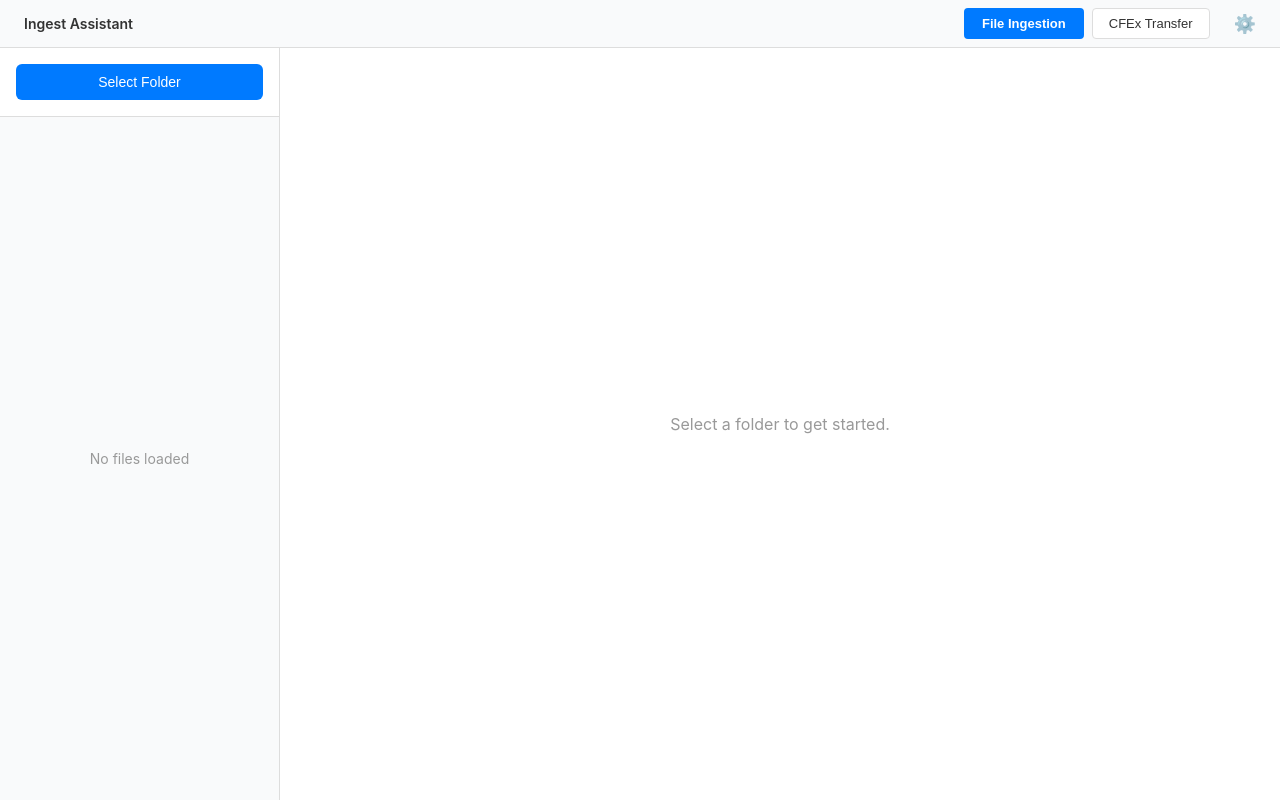
Scenario: Keyboard Shortcuts › Cmd+K - Command palette shortcut › should close command palette when Escape is pressed
Click the button "Select Folder" at (140, 82), box [16,64,263,100]
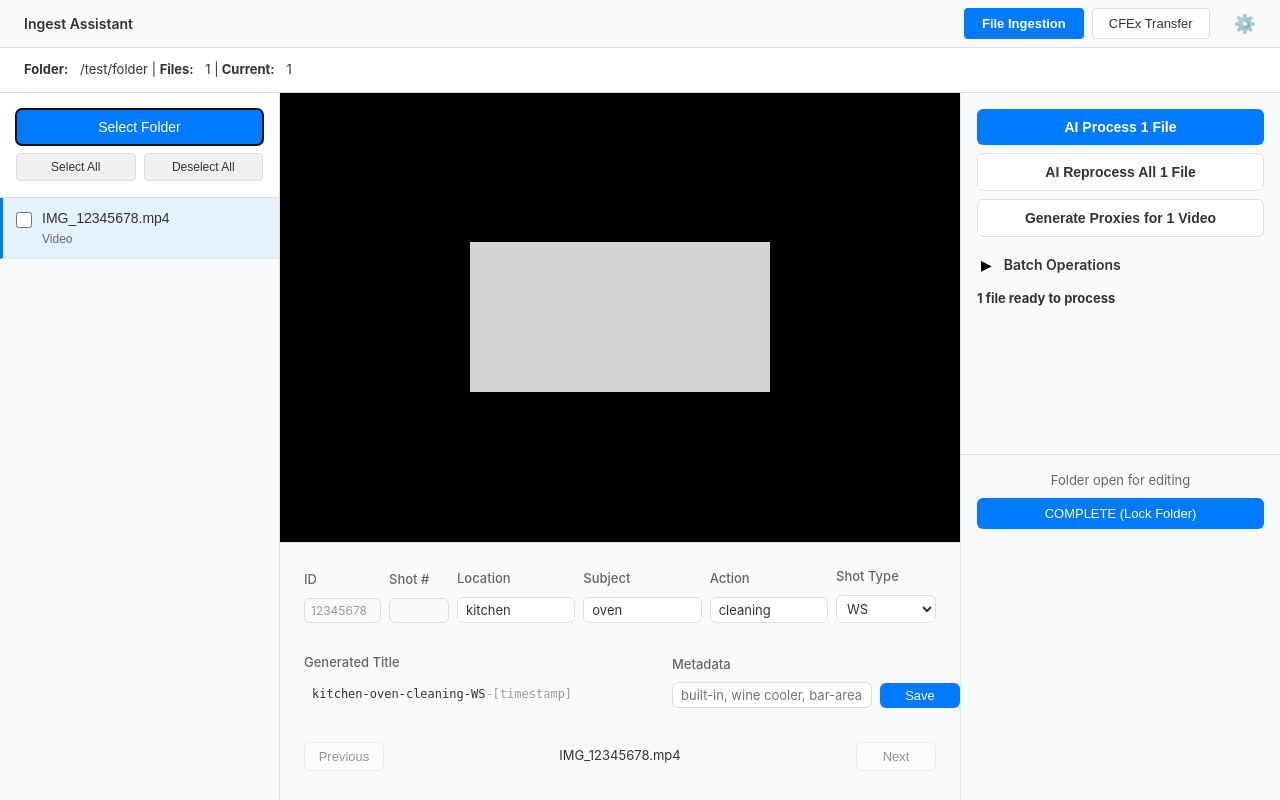
Now the field with placeholder "kitchen" below "Location" is shown, box [457,596,575,622]
Note: Open command palette
Type keys "{Meta>}k{/Meta}"
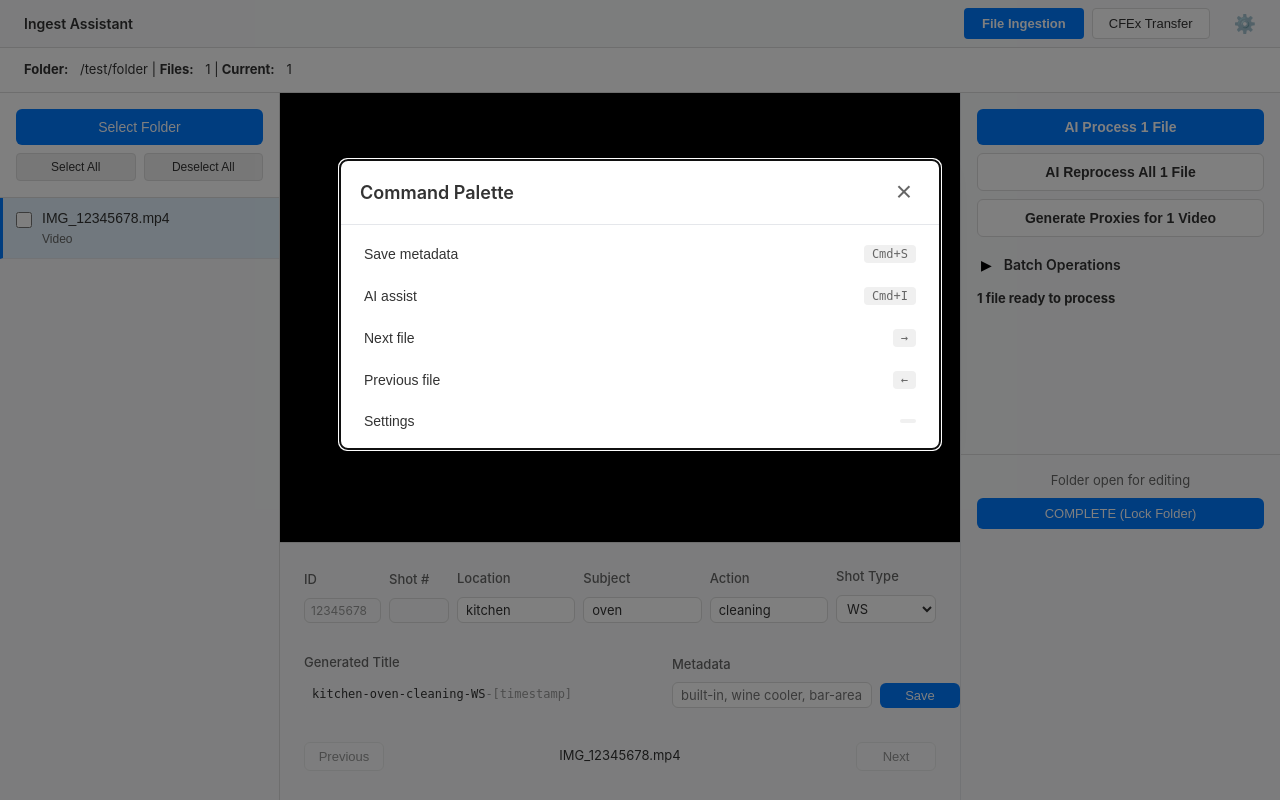
Now the dialog "Command Palette" is shown, box [340,160,940,449]
Note: Press Escape
Press Escape
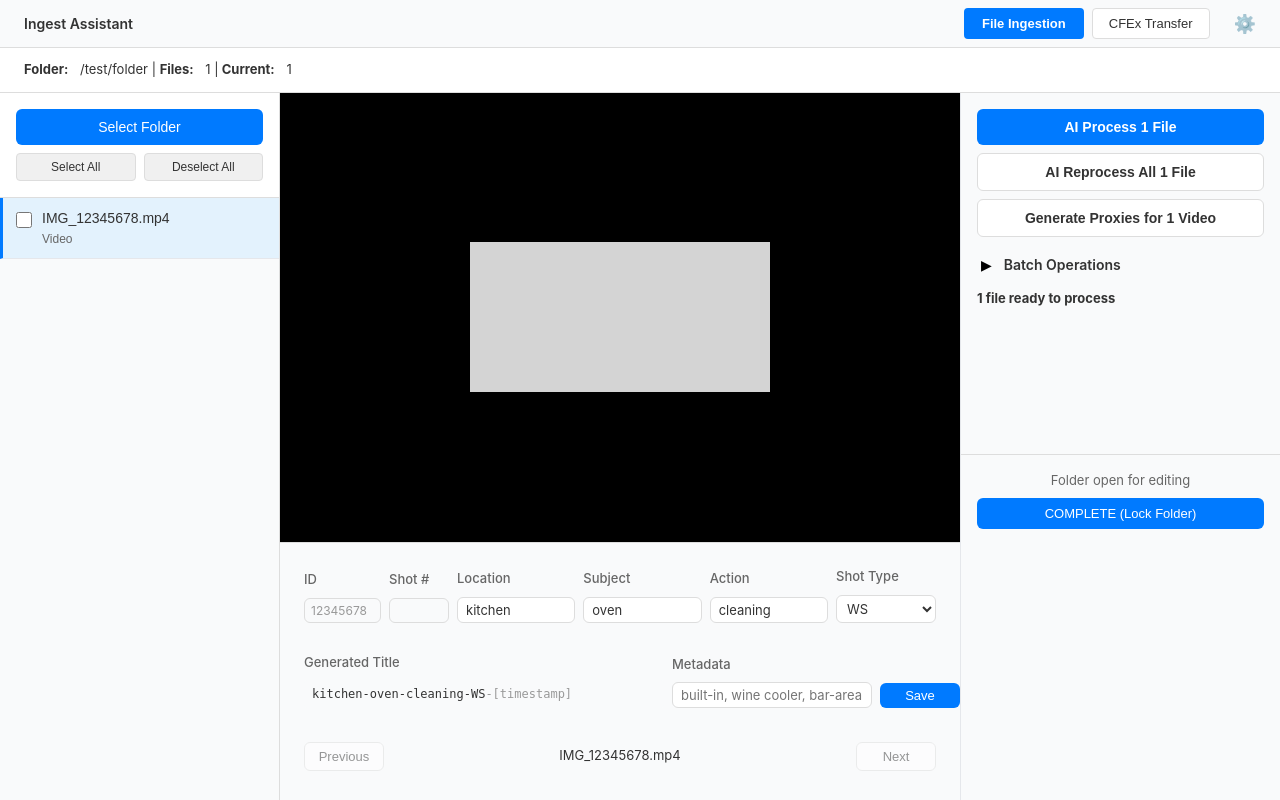
Now the heading "Command Palette" is gone
